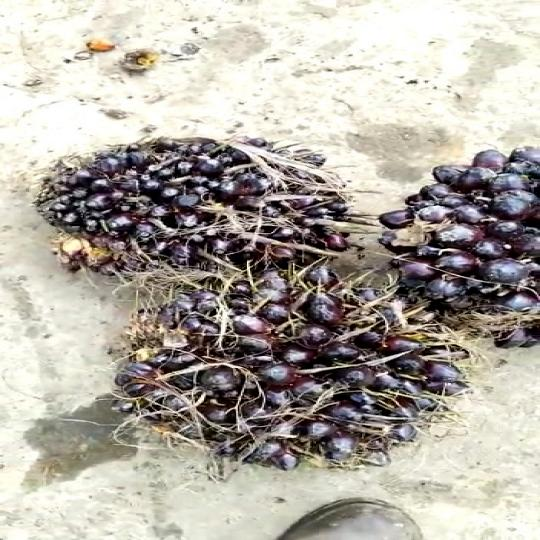mentah: (111, 260, 477, 480), (32, 132, 348, 279), (330, 138, 540, 354)
